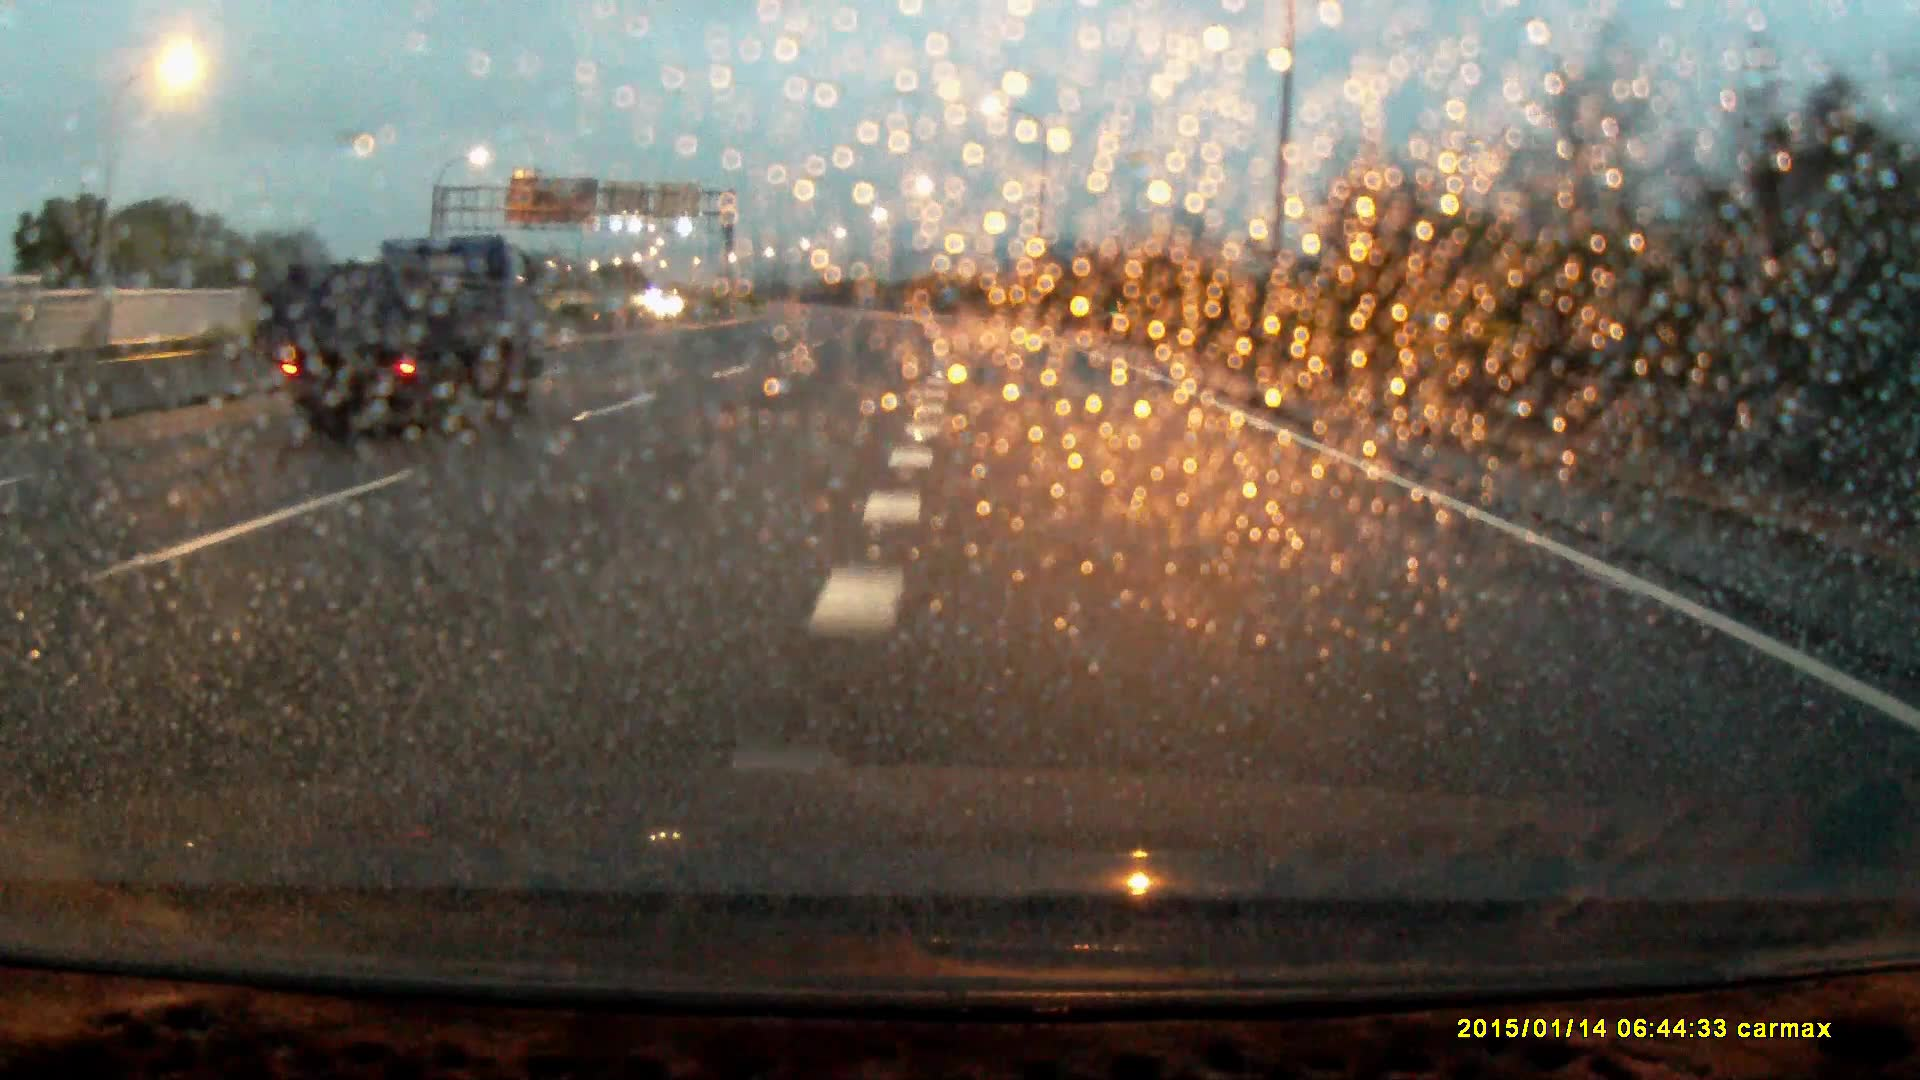vehicle: (266, 236, 527, 447)
